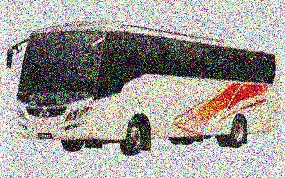bus: (7, 20, 278, 156)
